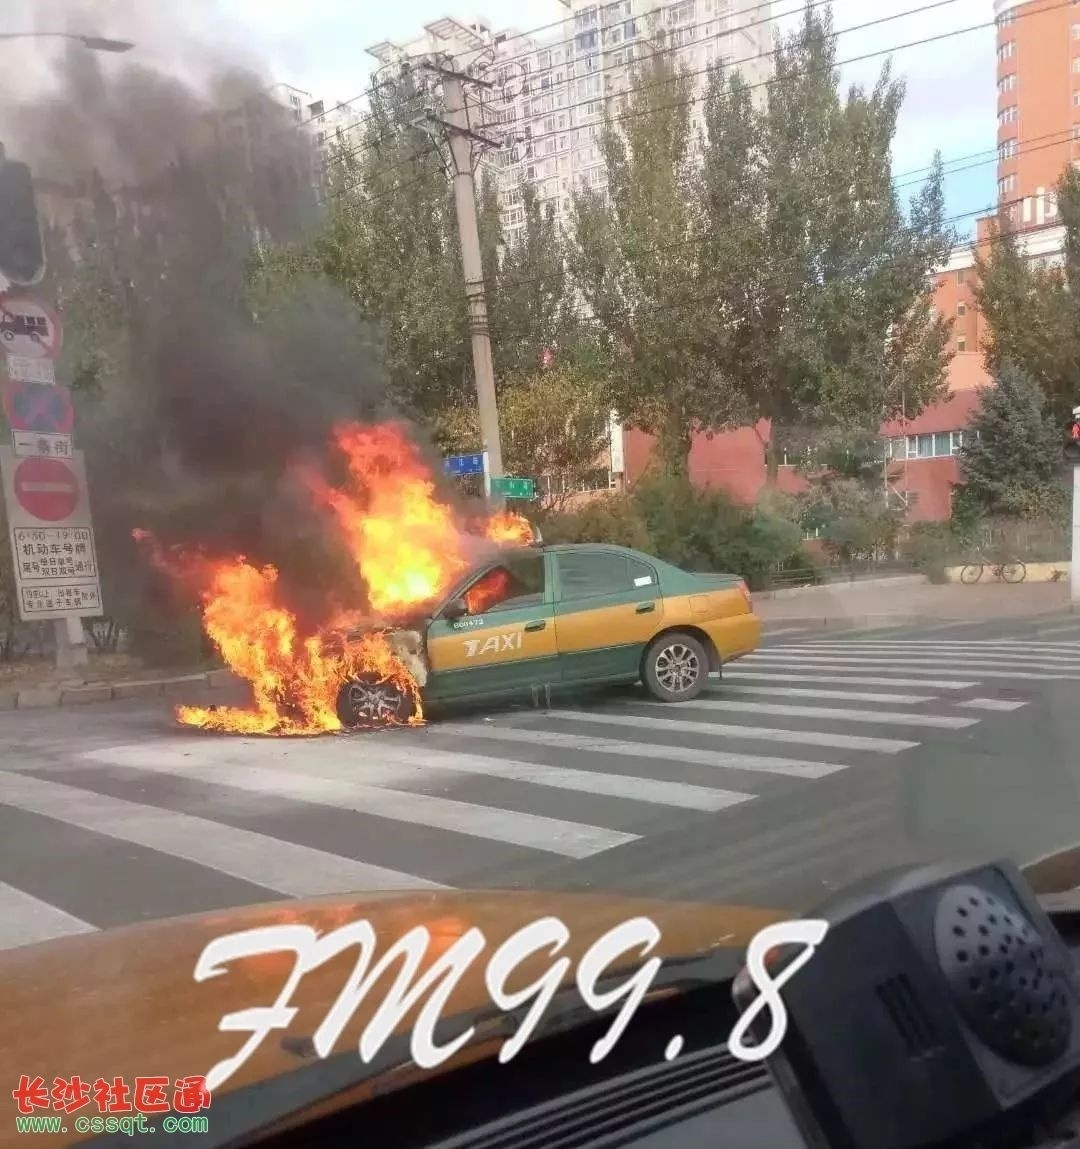fire: (144, 419, 520, 742)
